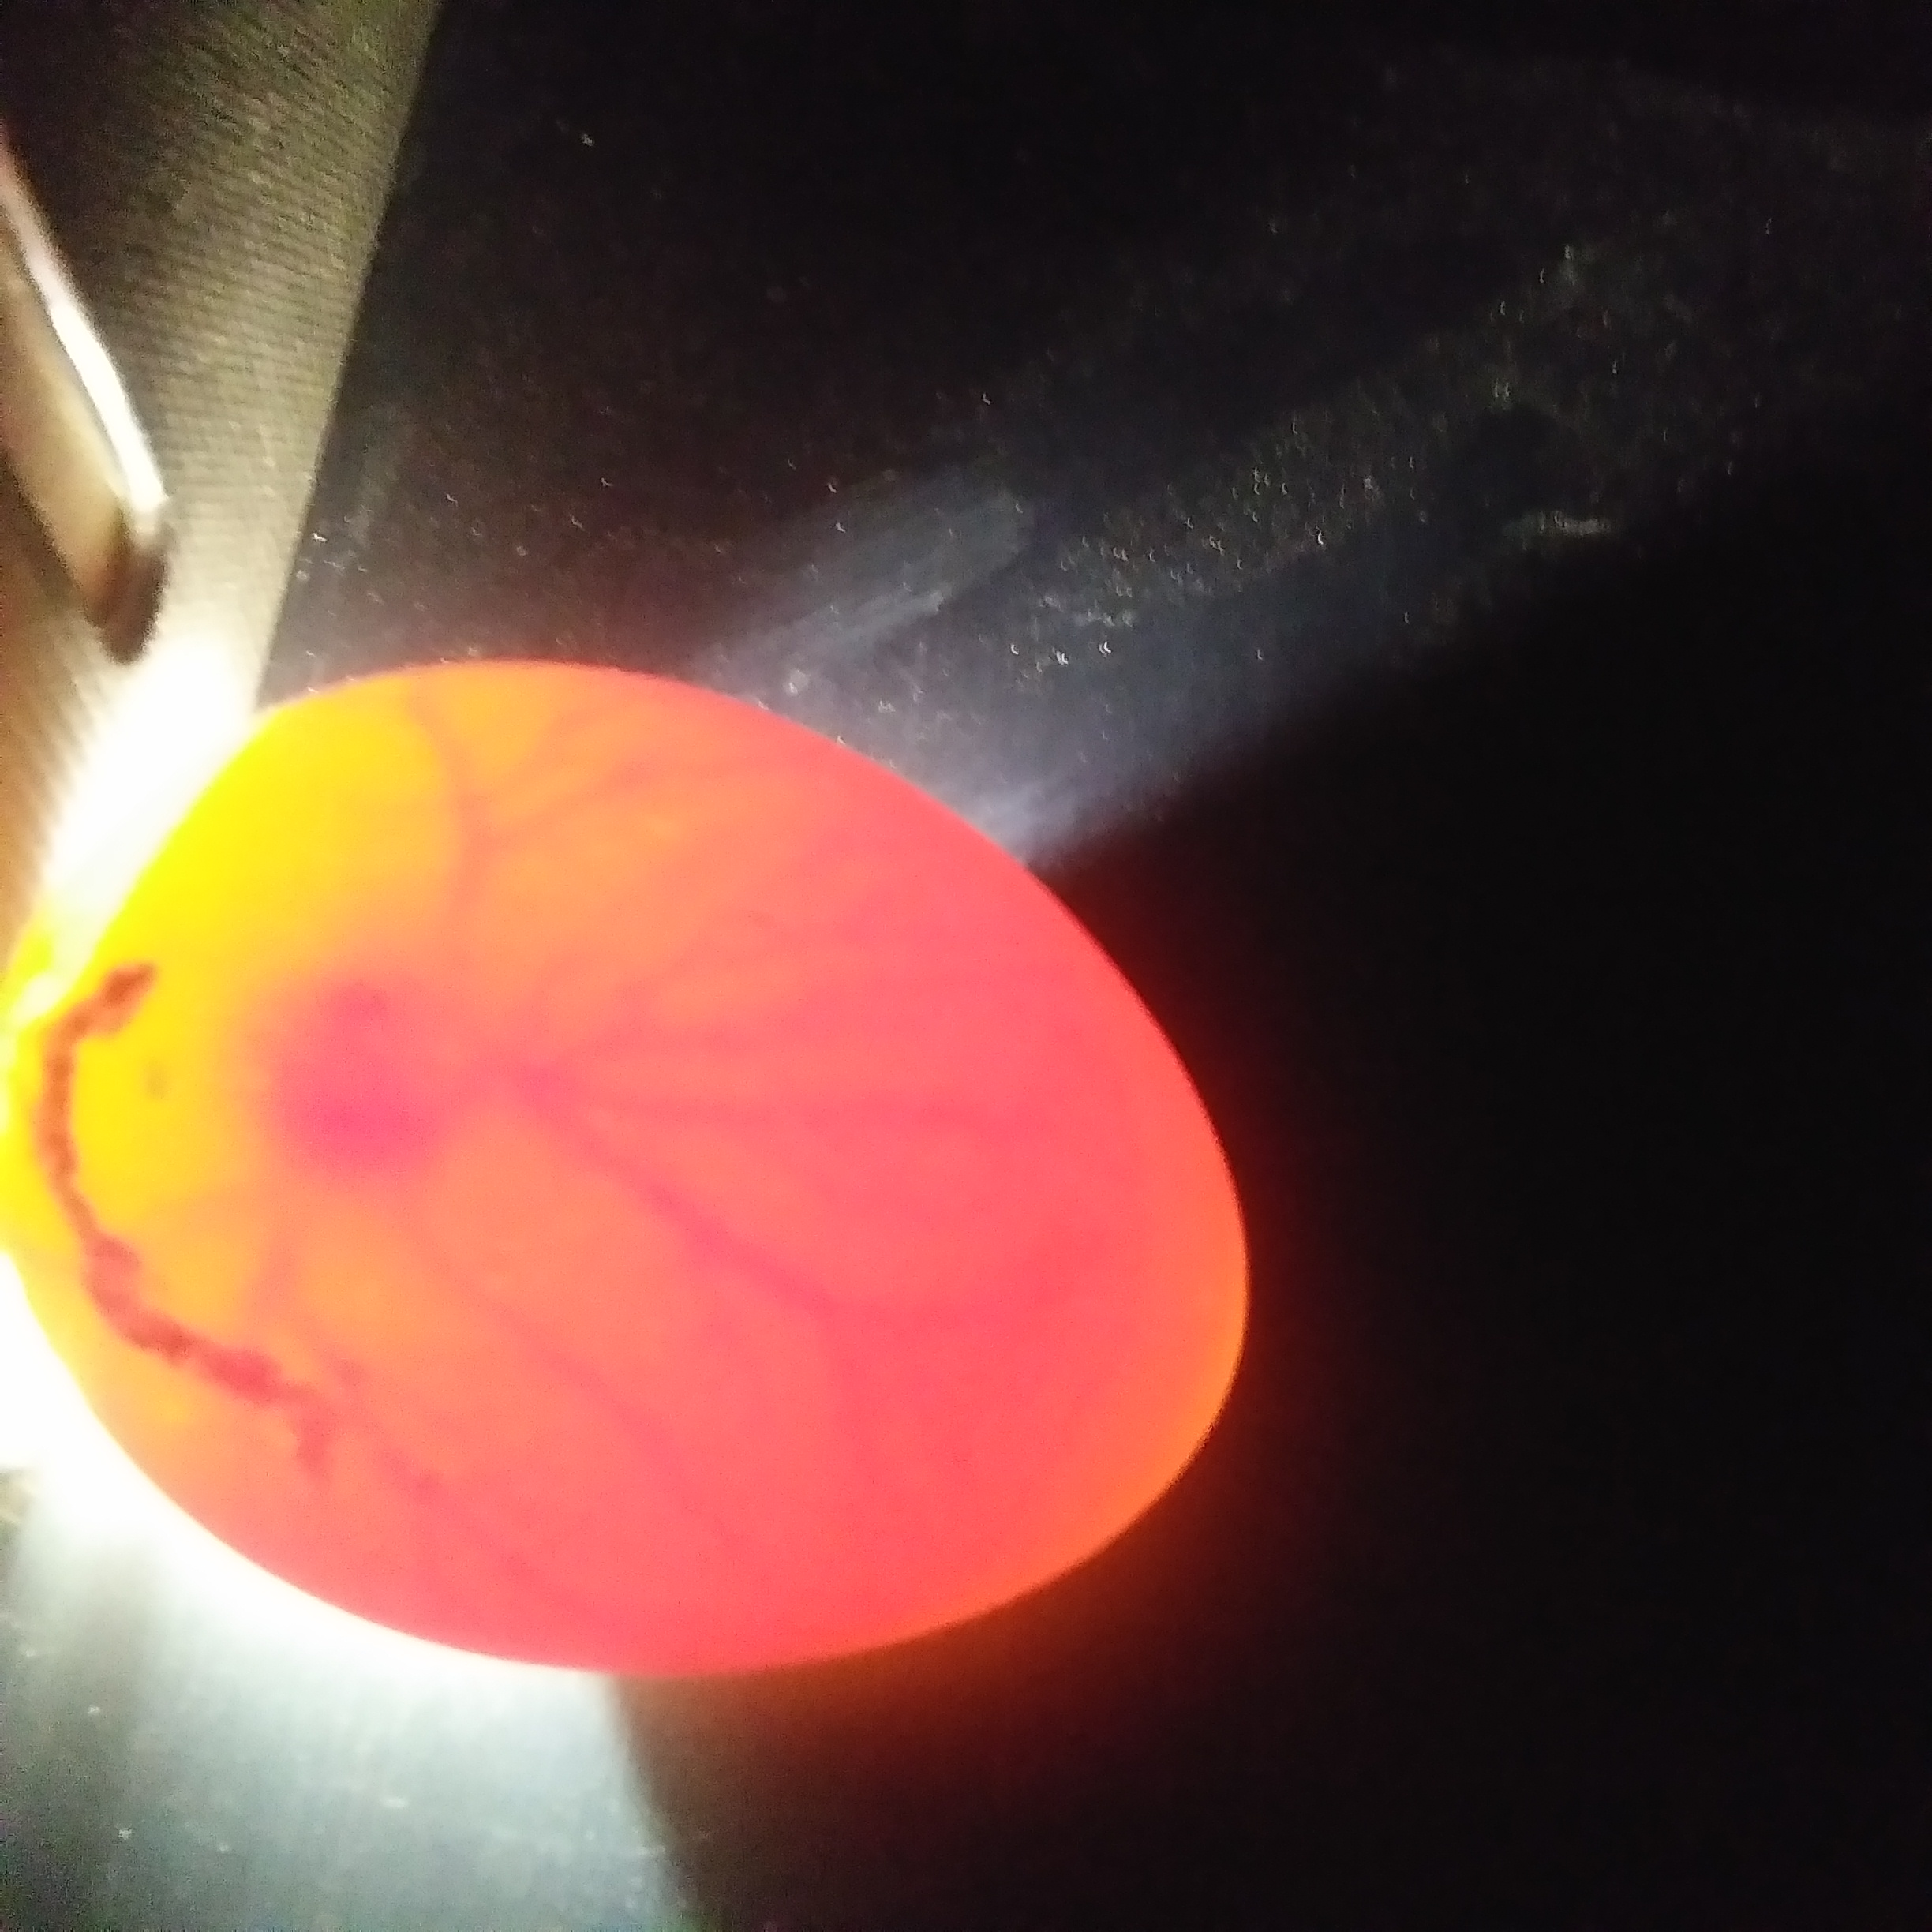bloodcell: (497, 801, 964, 1493)
embryo: (249, 978, 471, 1208)
